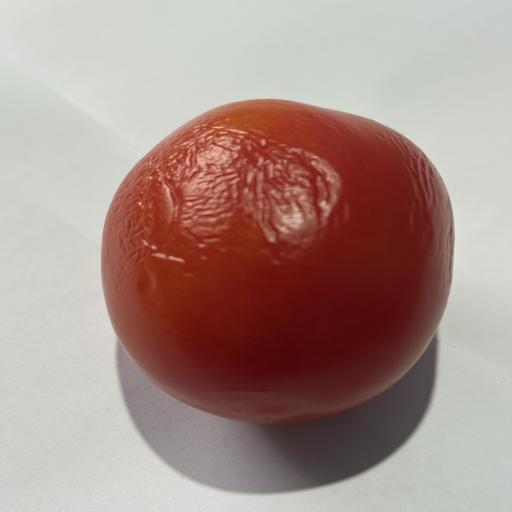spoiled: (102, 100, 454, 423)
